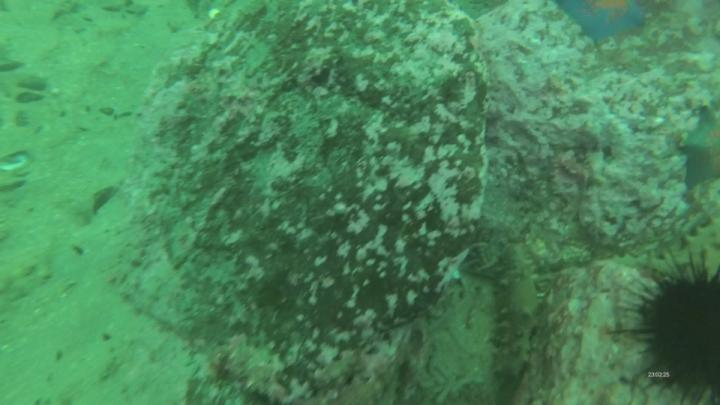echinus: (649, 277, 720, 401)
holothurian: (498, 245, 537, 376)
starfish: (558, 4, 646, 41)
